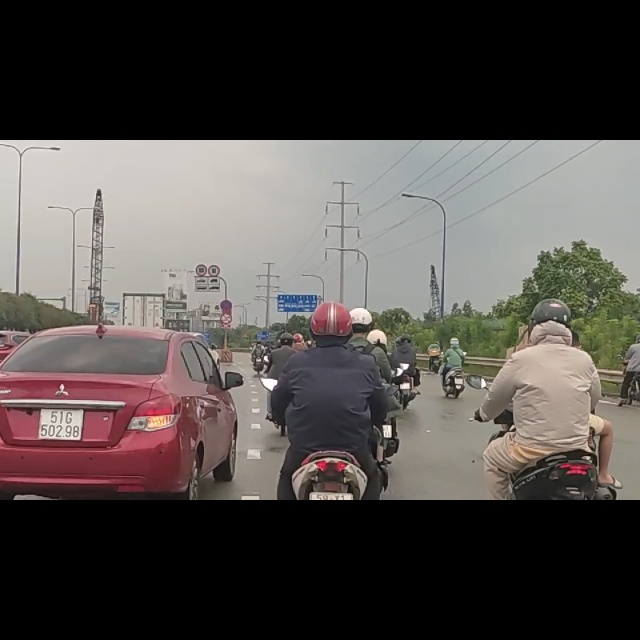bien_chi_dan: (219, 283, 232, 305)
